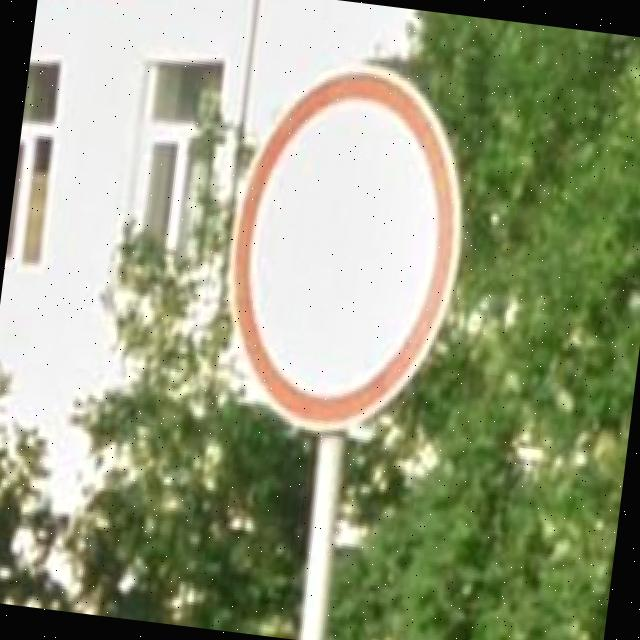Zakaz ruchu w obu kierunkach: (208, 51, 481, 448)
